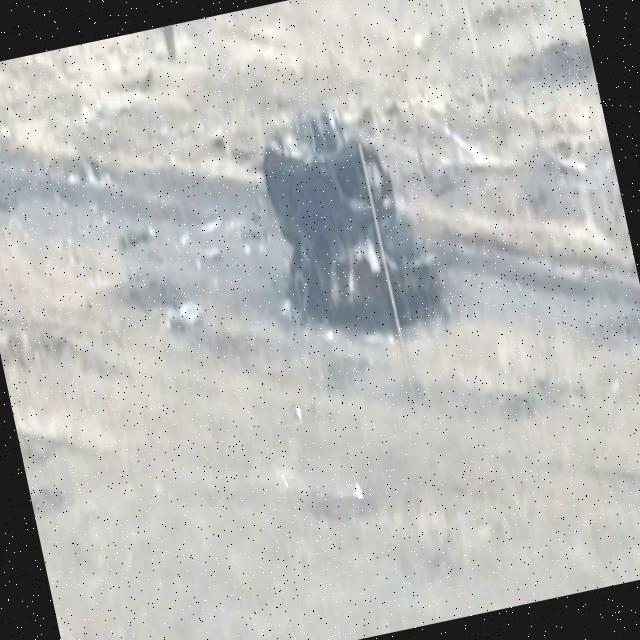Destroyed: (251, 95, 447, 350)
